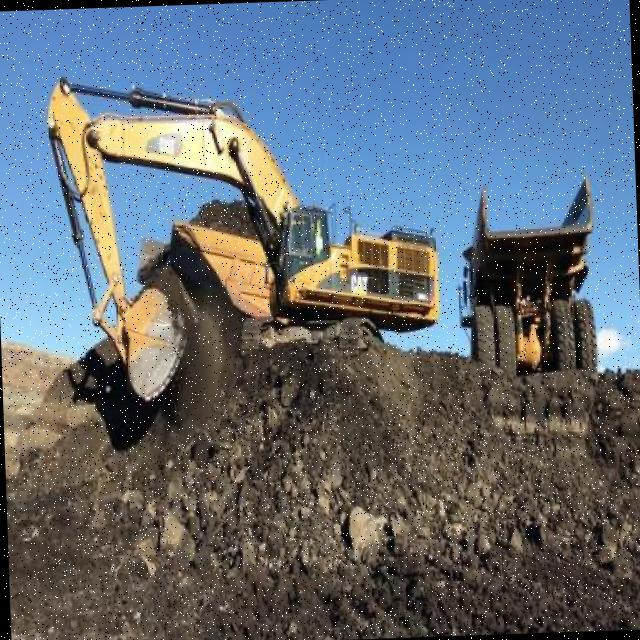Dump Truck: (451, 168, 600, 372), (132, 202, 271, 341)
Excavator: (44, 62, 443, 407)
